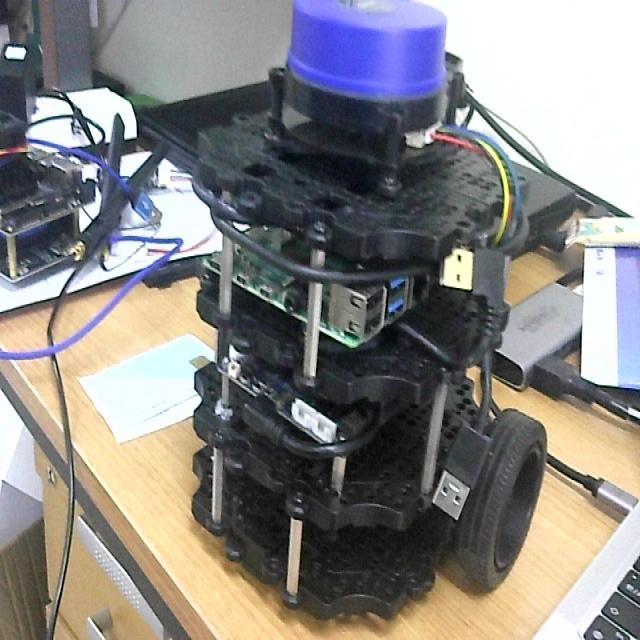turtle: (192, 0, 548, 622)
